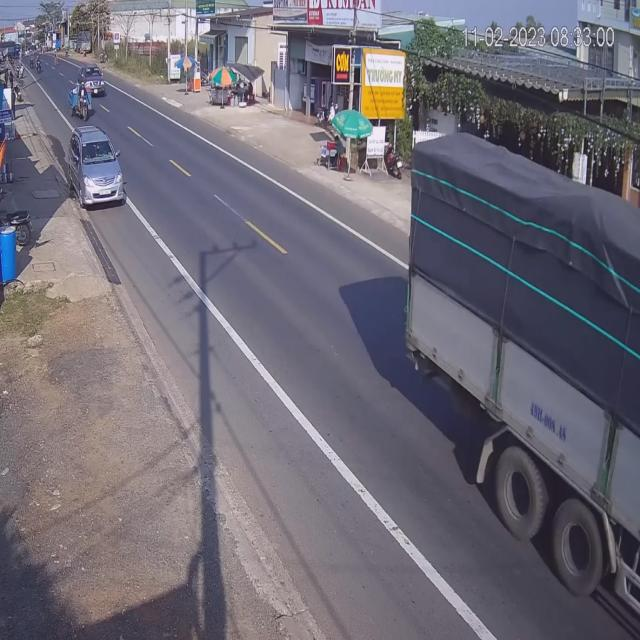car: (67, 124, 126, 209), (87, 66, 106, 96)
truck: (406, 140, 640, 629)
